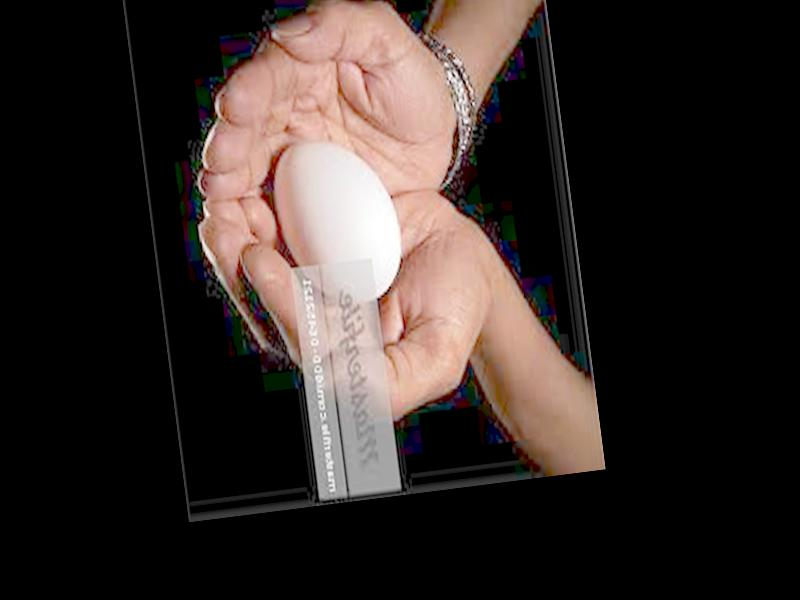Eggs: (266, 130, 405, 306)
